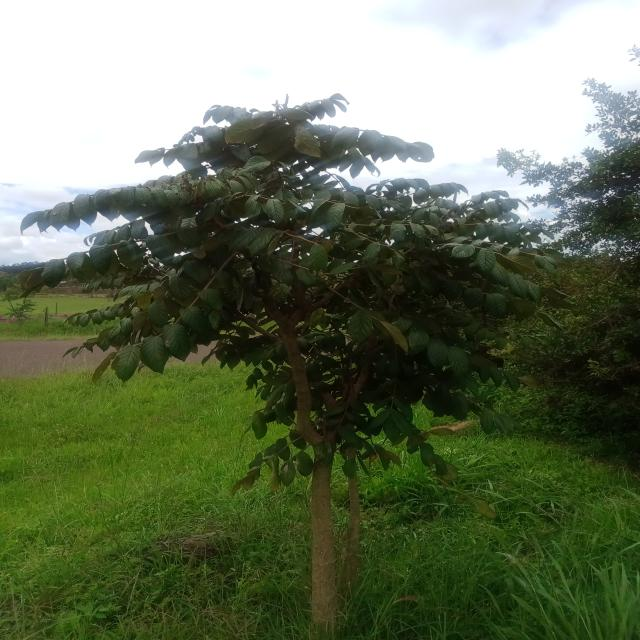Polyscias Kikuyensis: (20, 98, 551, 618)
